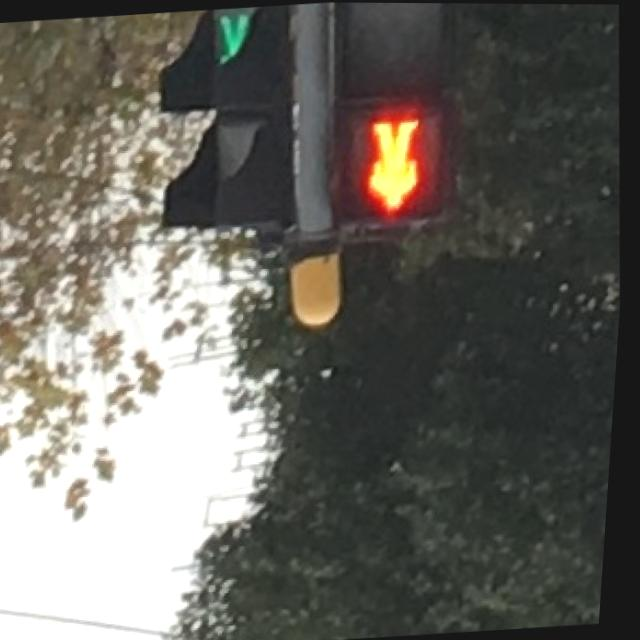red_light: (336, 107, 443, 221)
